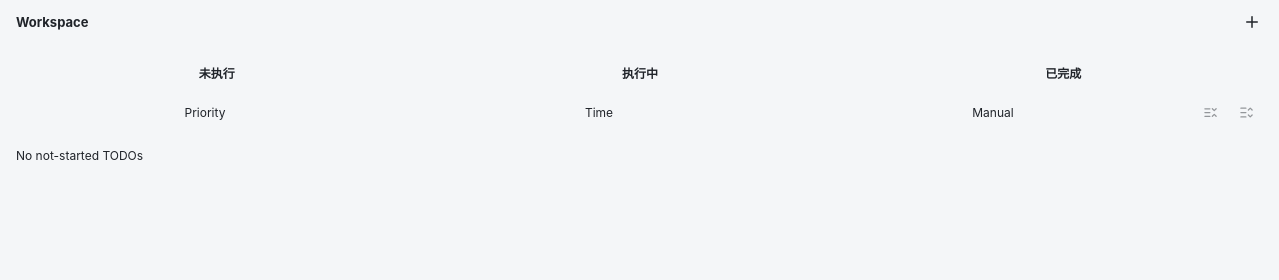
Test: ProjectSidebar › shows only Terminal when all custom launch profiles are disabled
The image size is (1279, 280).
Click the button with test id "todo-view-in-progress": (640, 72) [431,56,849,88]
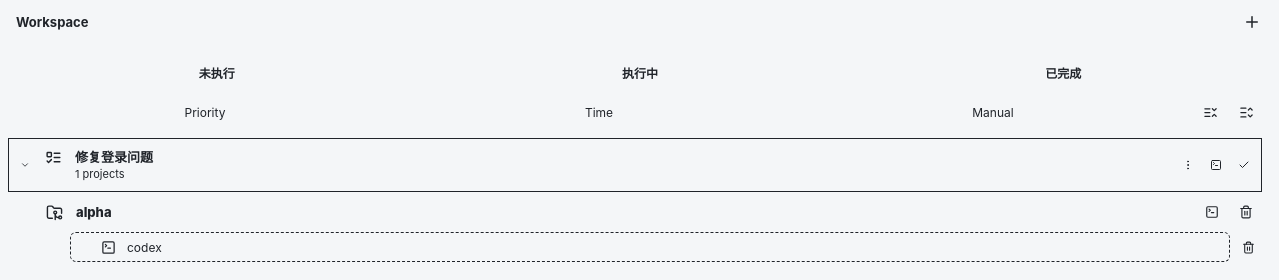
Click the button with test id "add-terminal-todo-project-a": (1212, 212) [1197,197,1227,227]
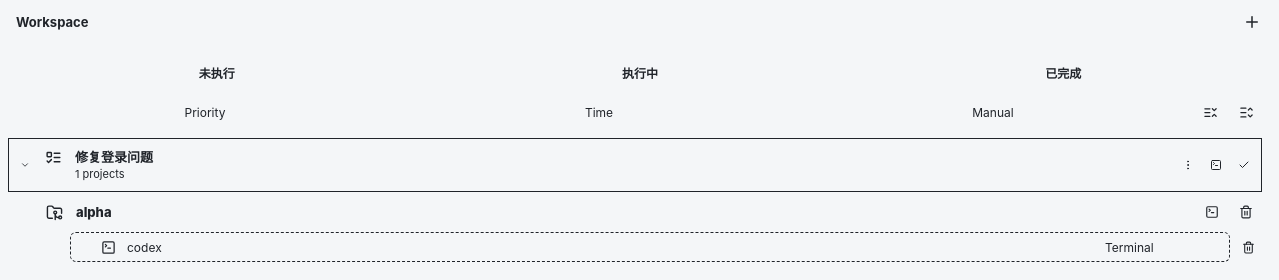
Check: the button with test id "terminal-launch-option-todo-project-a-" reads "Terminal", box [1095,231,1227,263]
